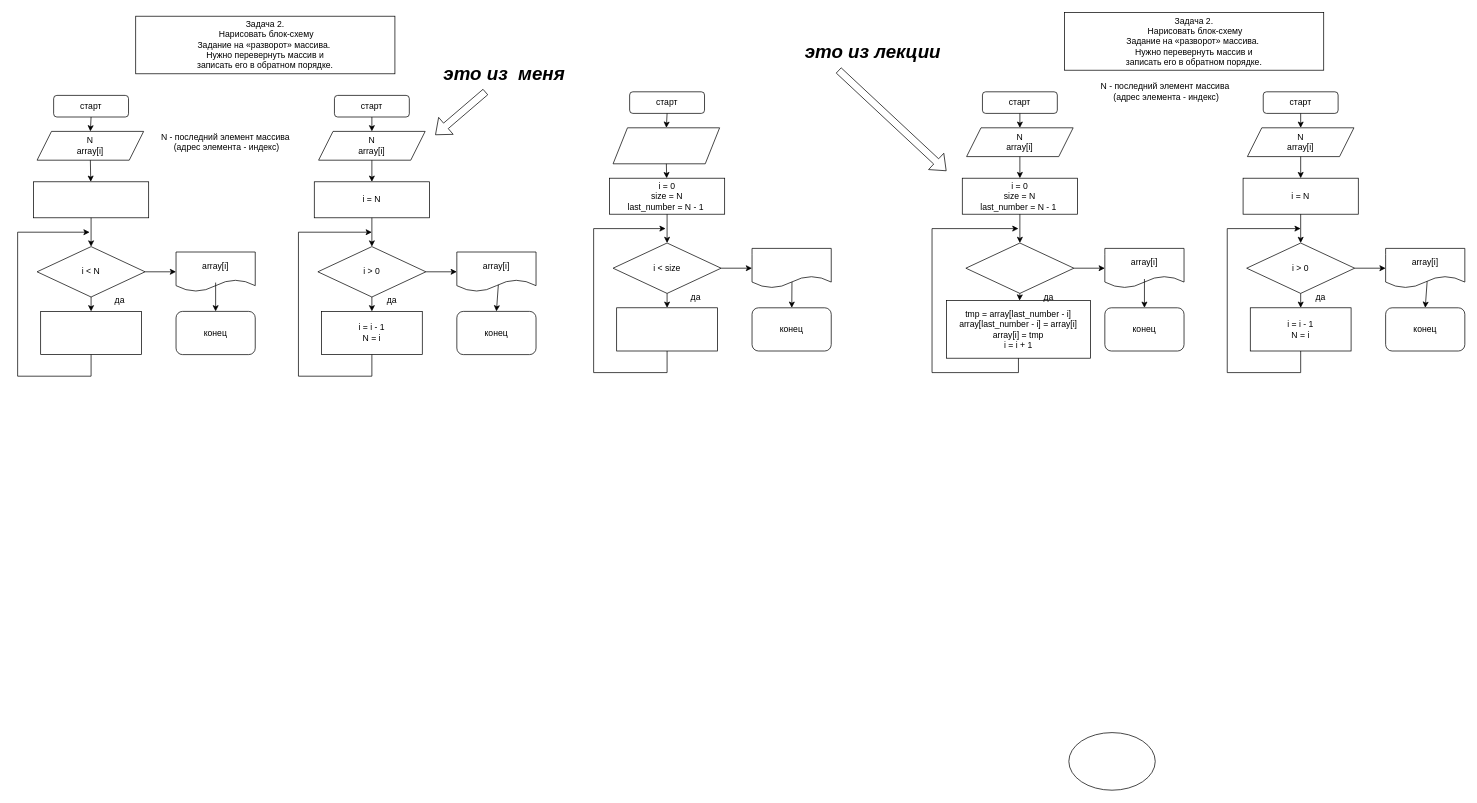
Some shapes in this 1477 by 803 pixel diagram are drawn without their labels. The shapes that lost their labels are listed below. From the top down, each one's centre as x and y in pixels, then its label:
At pixel 666 145: "N array[i] array_out[i]".
At pixel 91 199: "i = 0 number = N".
At pixel 791 268: "array_out[i]".
At pixel 1019 267: "i < N/2".
At pixel 90 333: "number = number - 1 i = i + 1 N = number".
At pixel 666 329: "array[last_number - i] i = i + 1".
